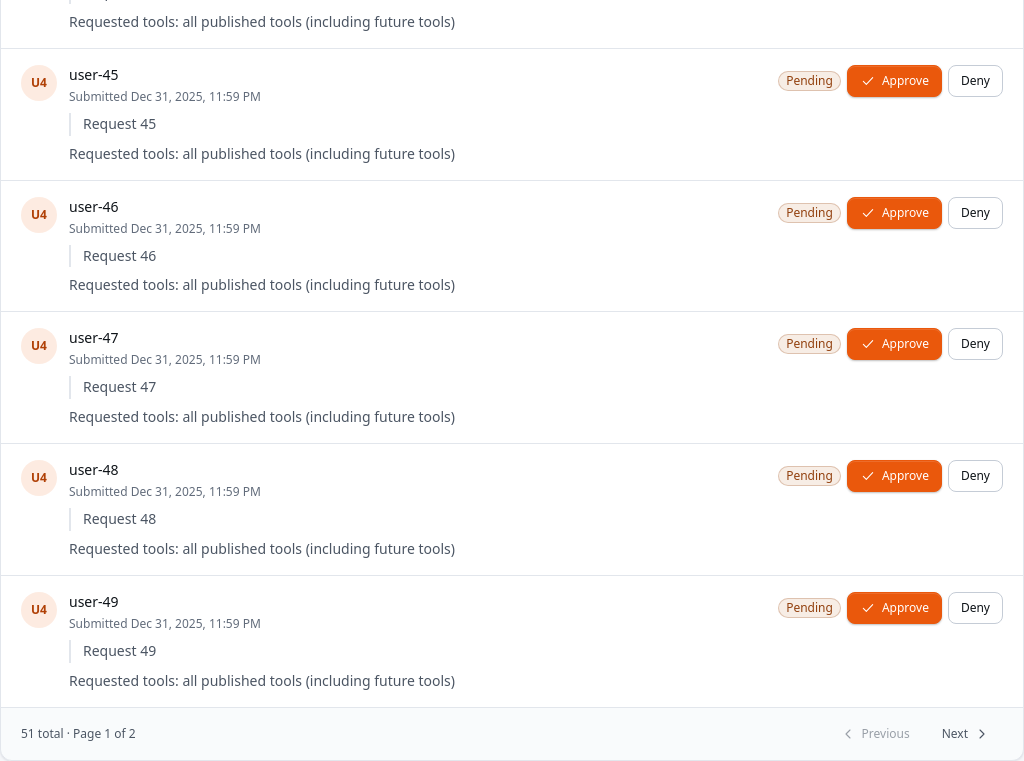
provider access pagination › steps back after Deny removes the only pending request on page two
The width and height of the screenshot is (1024, 761).
(page scrolled)
Click the button "Next" at (966, 734), box [929,718,1003,750]
(page scrolled)
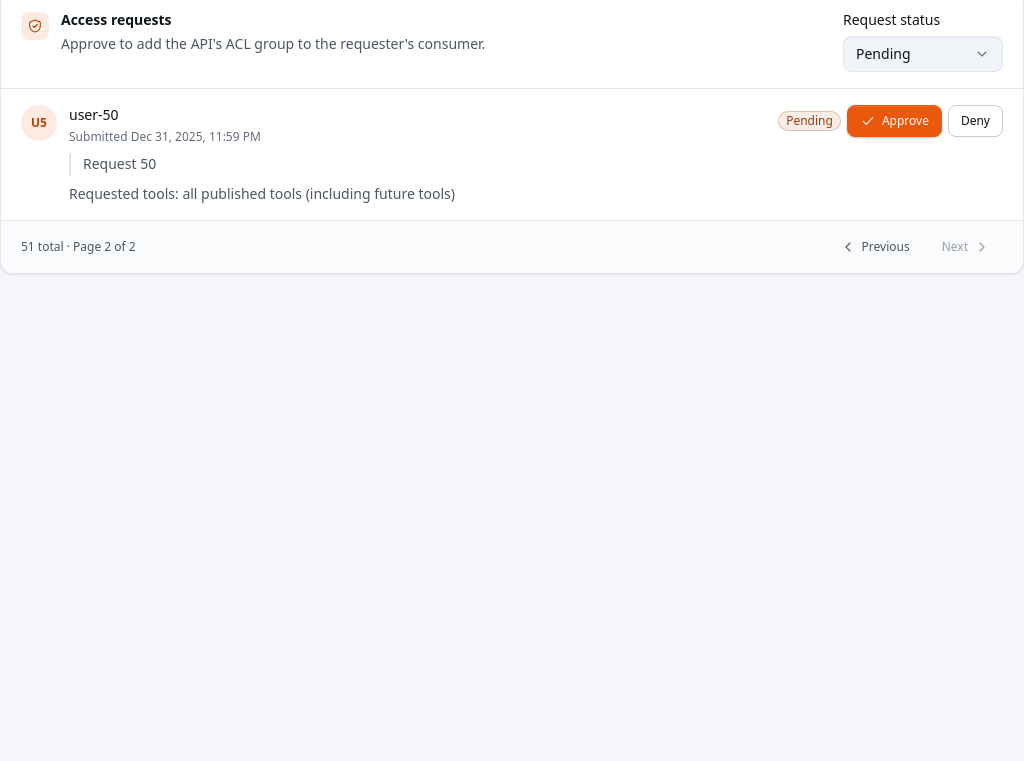
Expected: the button "Previous" is enabled, [826,231,923,263]
Expected: the list item "user-50" is shown, [69,105,119,124]
Click the button "Deny" at (975, 121), box [948,105,1003,137]
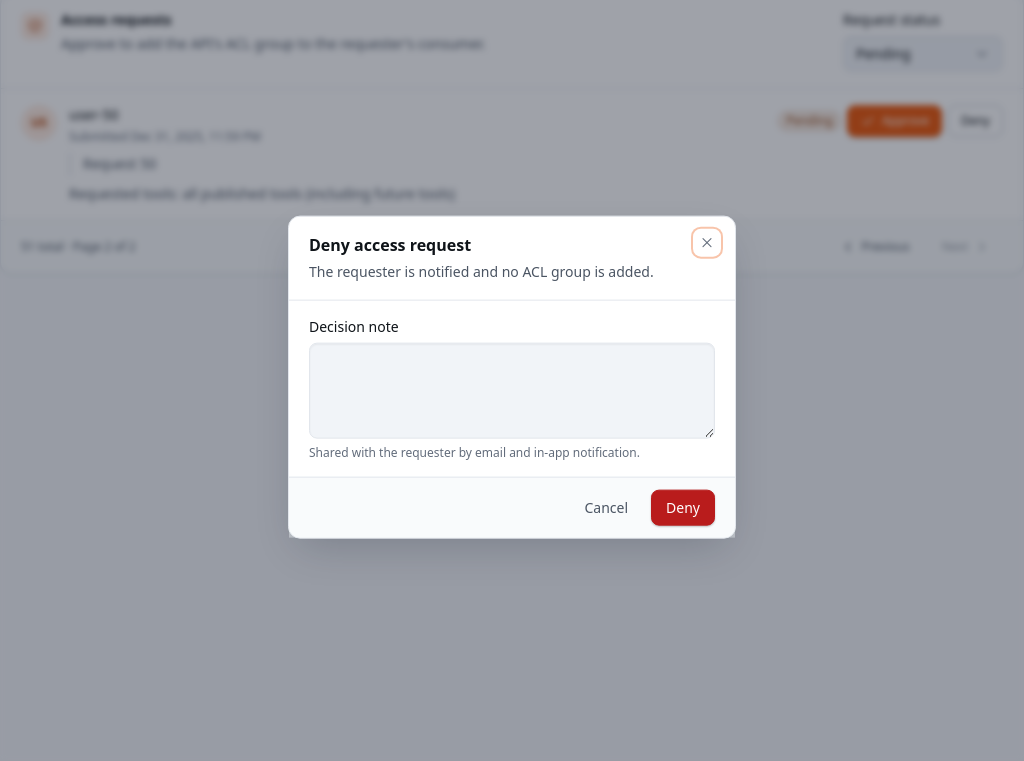
Click the button "Deny" at (683, 507), box [651,489,715,525]
(page scrolled)
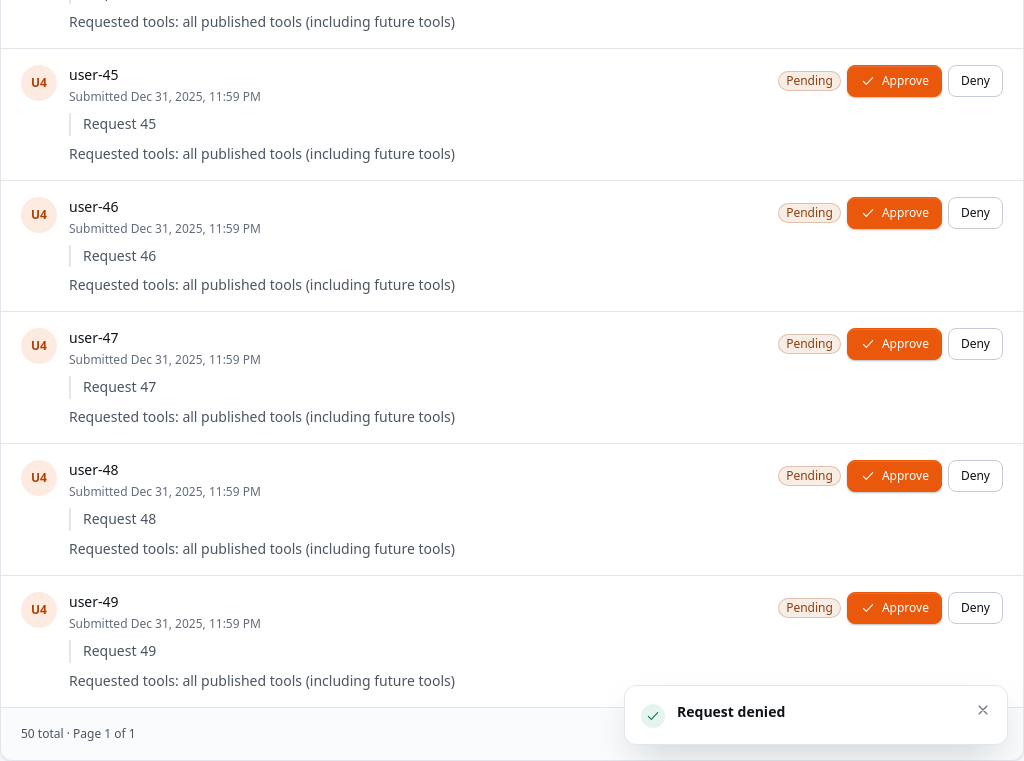
Expected: the button "Next" is disabled, [929,718,1003,750]
Expected: the dialog is gone
